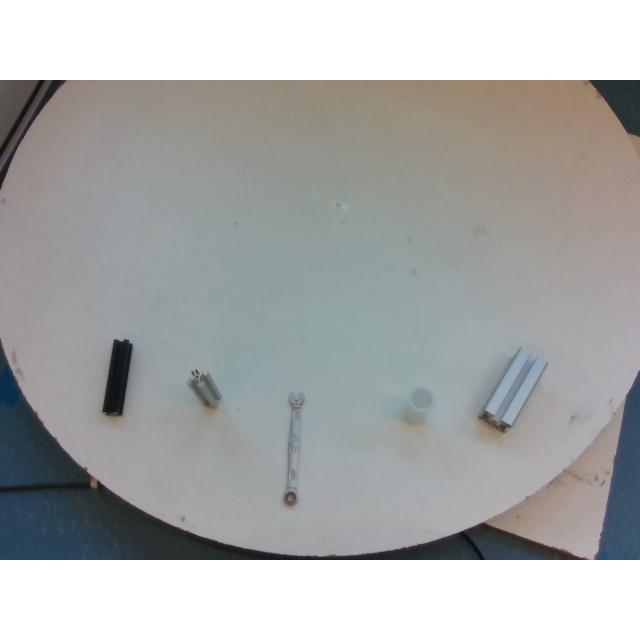F20_20_B: (104, 338, 132, 414)
F20_20_G: (187, 368, 221, 408)
S40_40_G: (479, 346, 547, 429)
Spacer: (403, 388, 433, 424)
Wrench: (284, 392, 304, 504)
